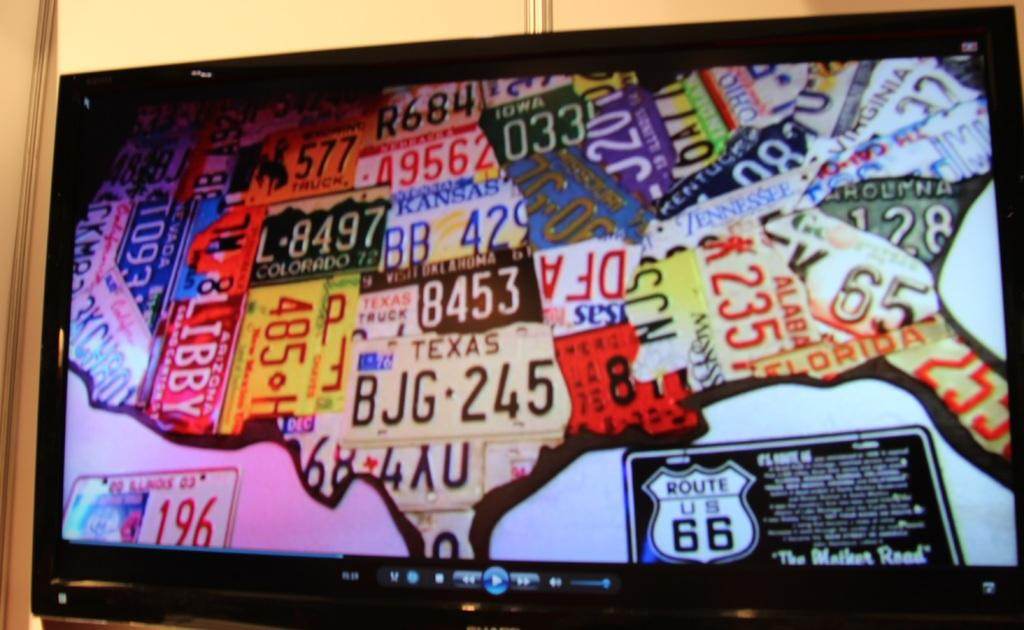Computer-monitor: (39, 1, 1023, 608)
